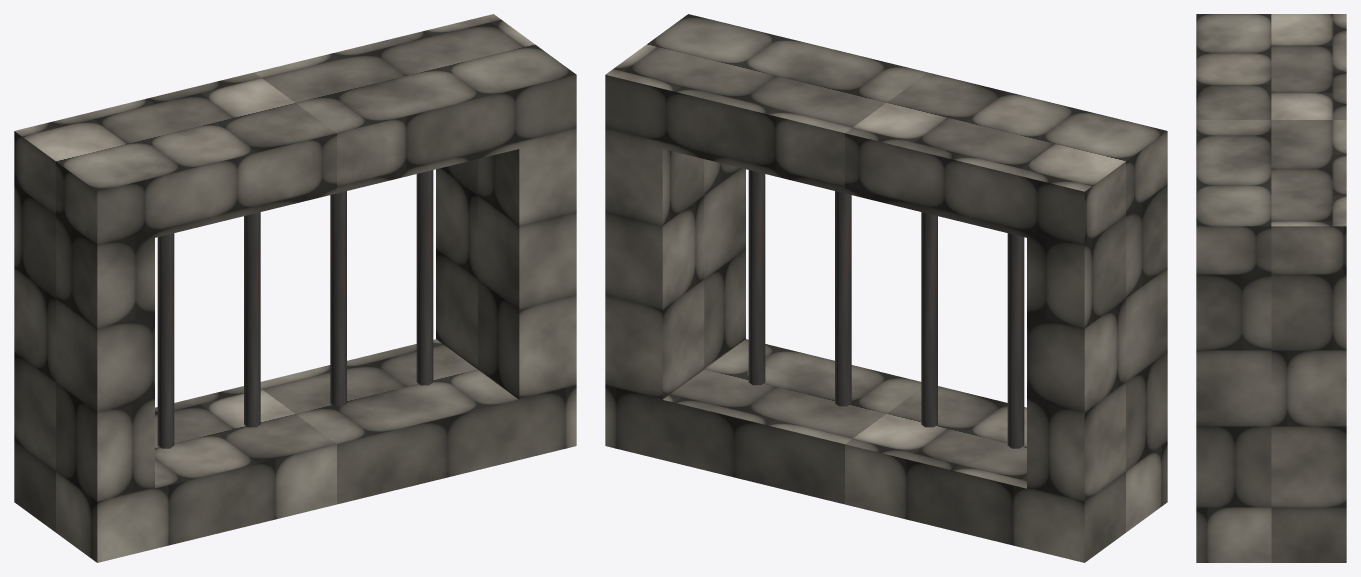
The model's file is Dungeon_Window_1.gltf.
The picture shows the model from 3 angles, left to right: view 1: azimuth 30°, elevation 25°; view 2: azimuth 150°, elevation 25°; view 3: azimuth 270°, elevation 25°; orthographic projection. The views are drawn at different scales.
Visible parts, largest first — view 1: Dungeon_Window_1; view 2: Dungeon_Window_1; view 3: Dungeon_Window_1.
Part boxes in pixels (bbox=[...]): Dungeon_Window_1: bbox=[14, 14, 576, 562]; Dungeon_Window_1: bbox=[605, 14, 1167, 562]; Dungeon_Window_1: bbox=[1196, 14, 1346, 562].
Size of the model in its own units: 1 by 0.74 by 0.3.
Materials: 2 (2 with a texture image).
